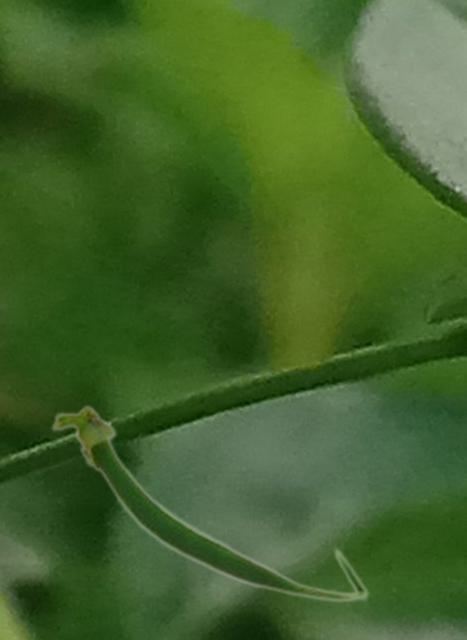french_bean: (49, 402, 369, 603)
